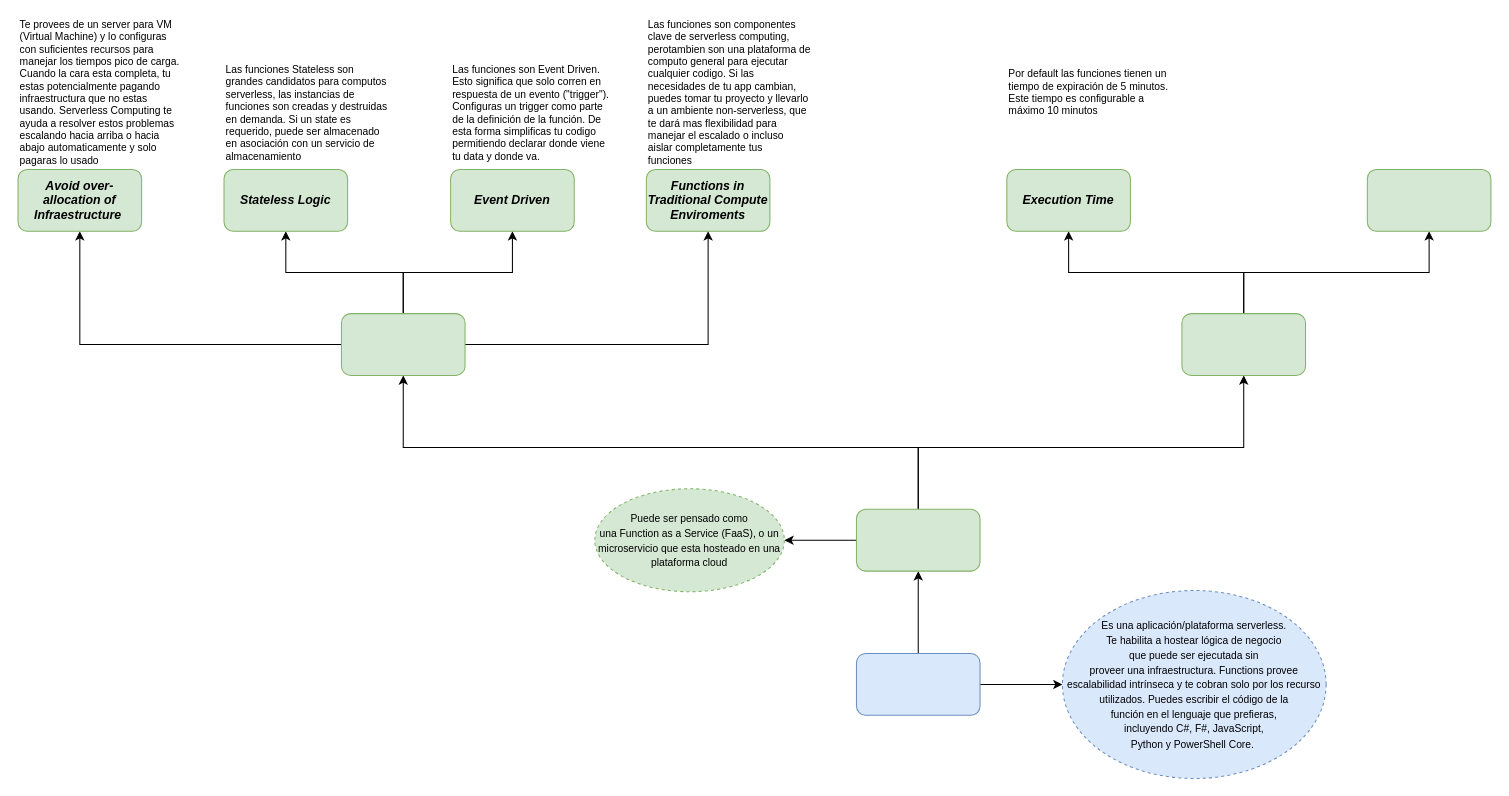
The diagram is 1509 pixels wide and 796 high, and some of its shapes have lost their labels. The shapes that lost their labels are listed below. From the top down, each one's centre as x and y in pixels, then its label:
At pixel 402 344: "Beneficios de Soluciones Serverless Compute".
At pixel 1243 344: "Drawbacks of a Serverless Compute Solution".
At pixel 917 539: "Serverless Logic".
At pixel 917 684: "Azure Functions".
